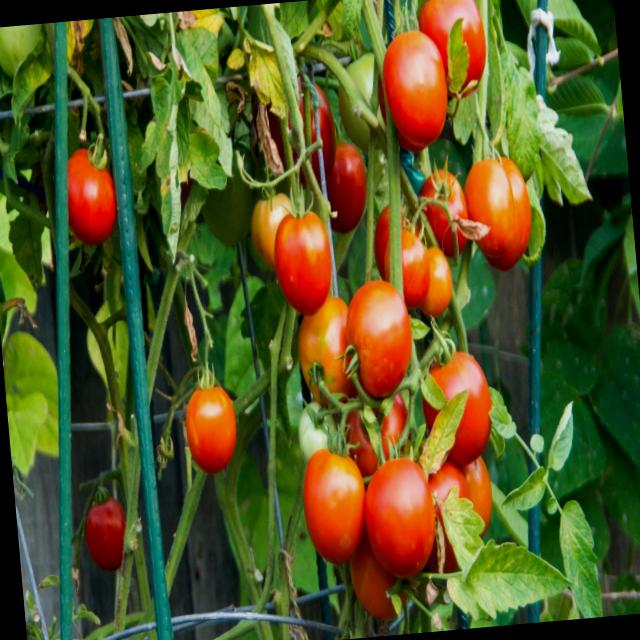tomato: (358, 438, 438, 578), (337, 274, 417, 393), (377, 22, 451, 144), (301, 436, 371, 564), (466, 146, 537, 272), (270, 193, 340, 314), (180, 366, 246, 472), (64, 145, 122, 241)
